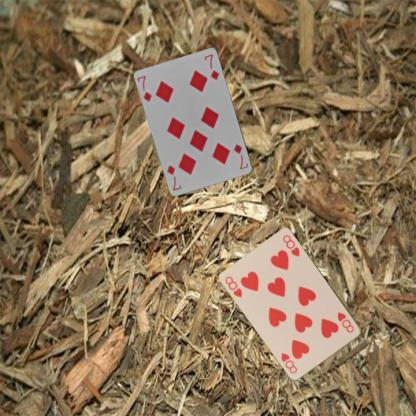7d: (232, 142, 250, 172), (135, 73, 153, 103)
8h: (222, 274, 244, 299), (335, 309, 355, 334)
